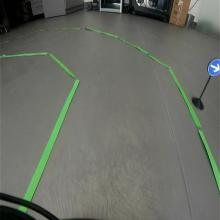right: (207, 57, 220, 76)
